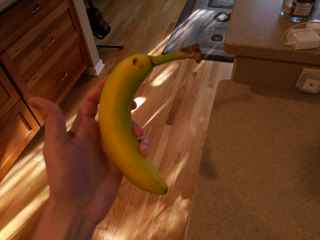banana: (94, 41, 210, 197)
